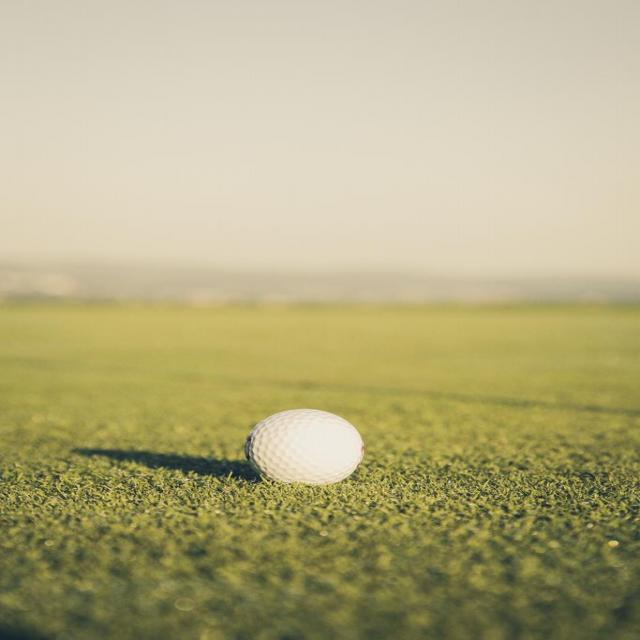golfball: (242, 402, 372, 487)
